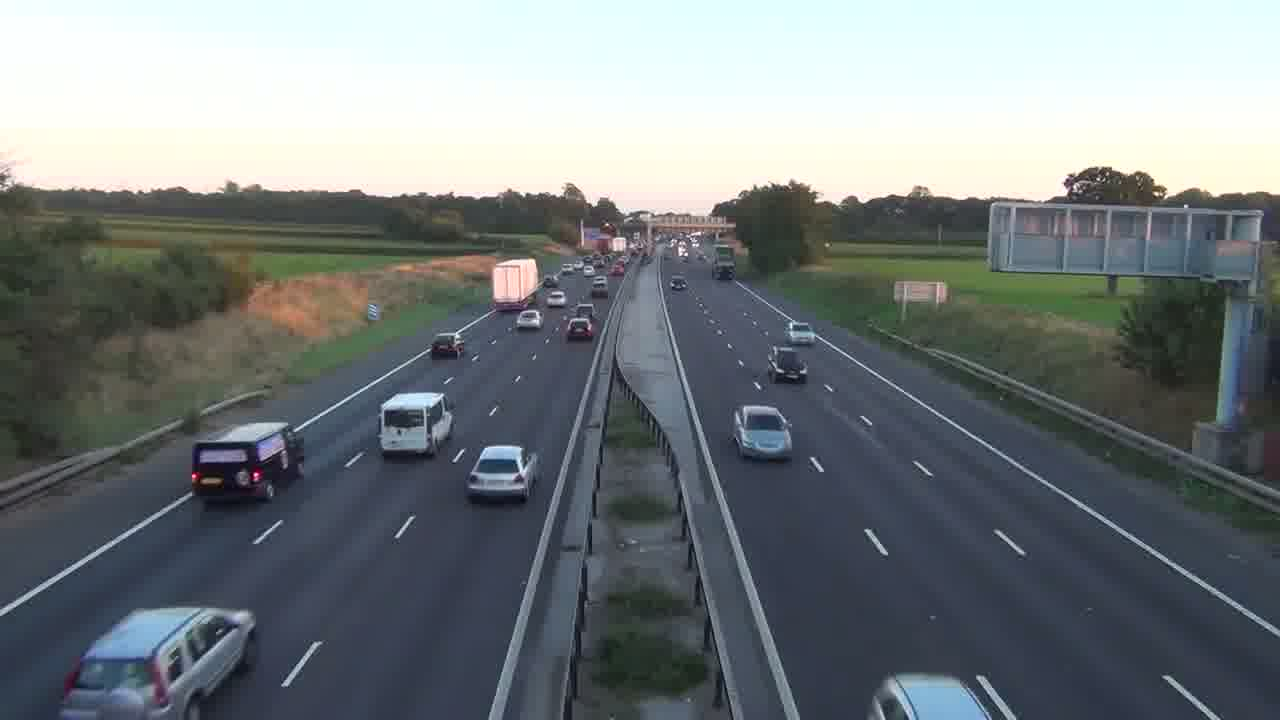bus: (378, 391, 455, 458)
car: (58, 605, 256, 718), (868, 672, 1020, 719), (465, 444, 542, 503), (731, 403, 794, 462), (767, 345, 809, 383), (785, 321, 817, 346), (566, 317, 595, 341), (515, 308, 543, 331)
truck: (190, 419, 305, 503), (378, 391, 455, 458), (492, 257, 539, 311)
